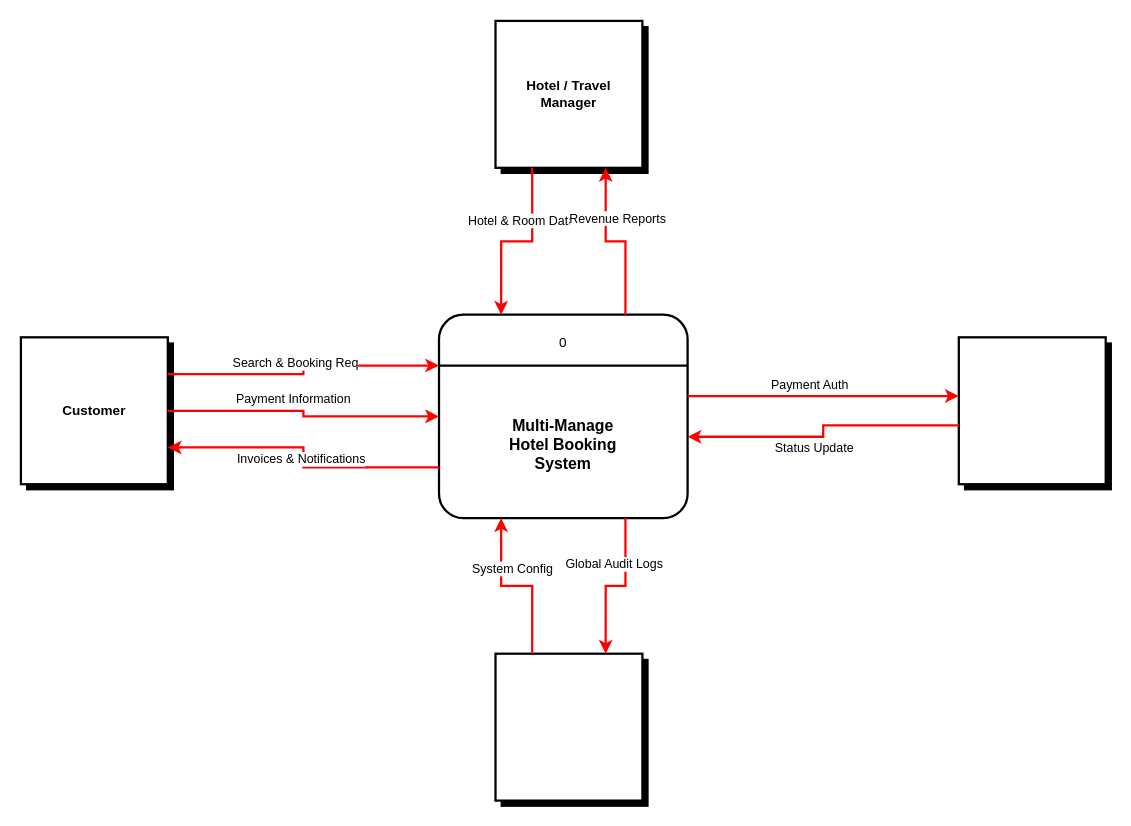
Some shapes in this 1131 by 826 pixel diagram are drawn without their labels. The centre of each missing label's shape, as x and y in pixels:
External Services (Payment/SMS): point (1031, 410)
System Administrator: point (568, 726)
